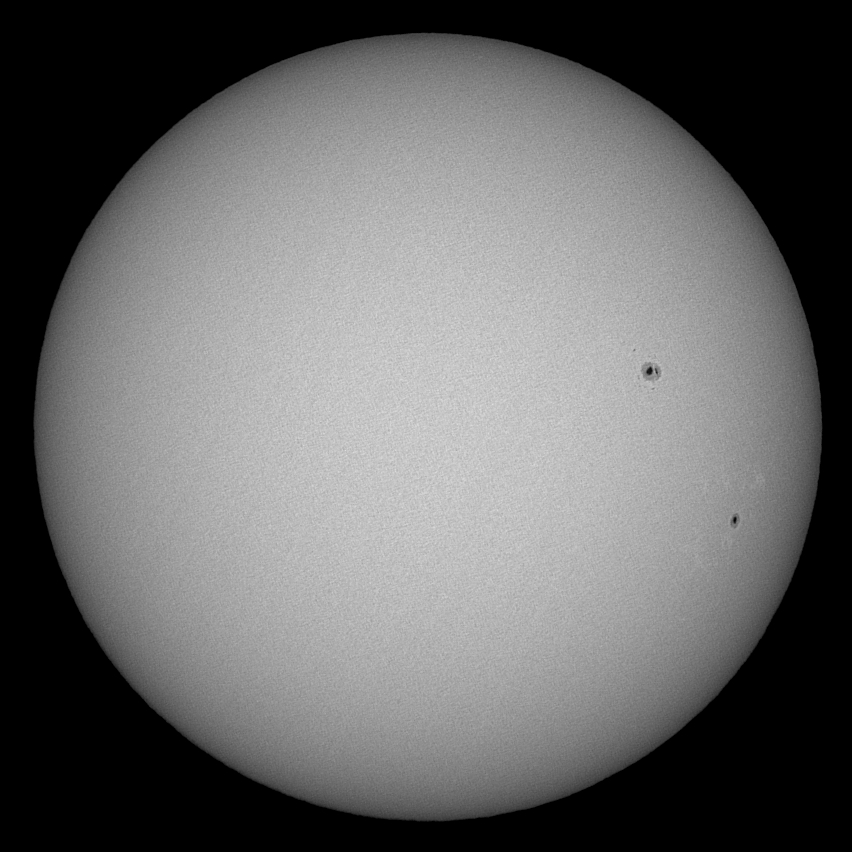sunspot: (638, 360, 665, 382), (728, 511, 742, 528)
